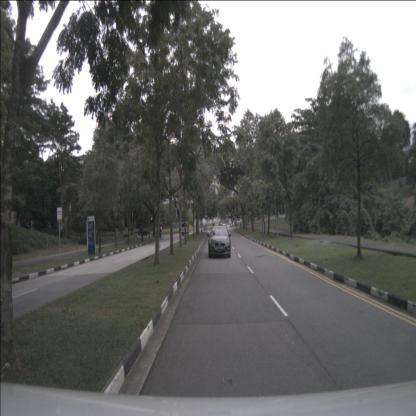vehicle-car: (208, 225, 231, 258), (181, 222, 189, 236), (138, 228, 151, 236), (222, 220, 226, 228)
vehicle-motorcycle: (157, 226, 162, 238)
